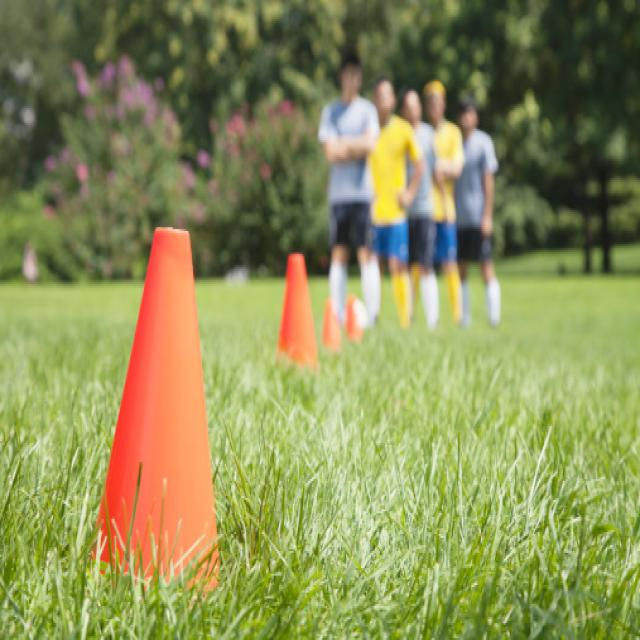cone: (92, 226, 224, 596), (274, 248, 318, 371), (320, 294, 340, 352), (344, 299, 358, 341)
